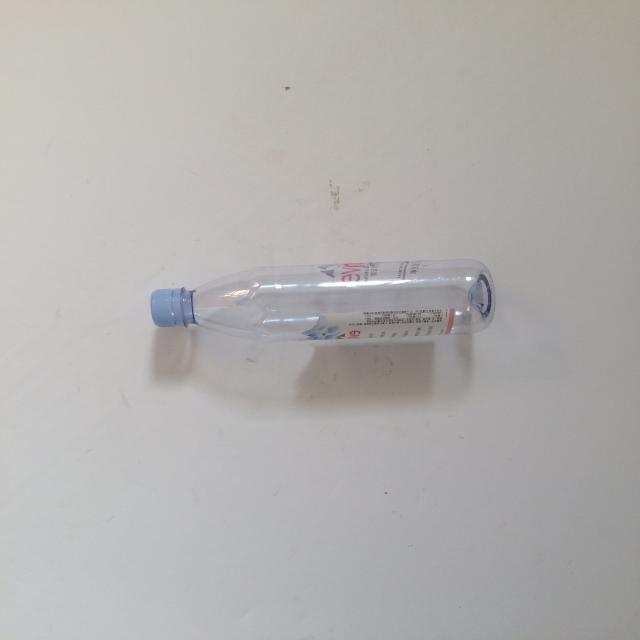Plastic: (128, 226, 530, 406)
